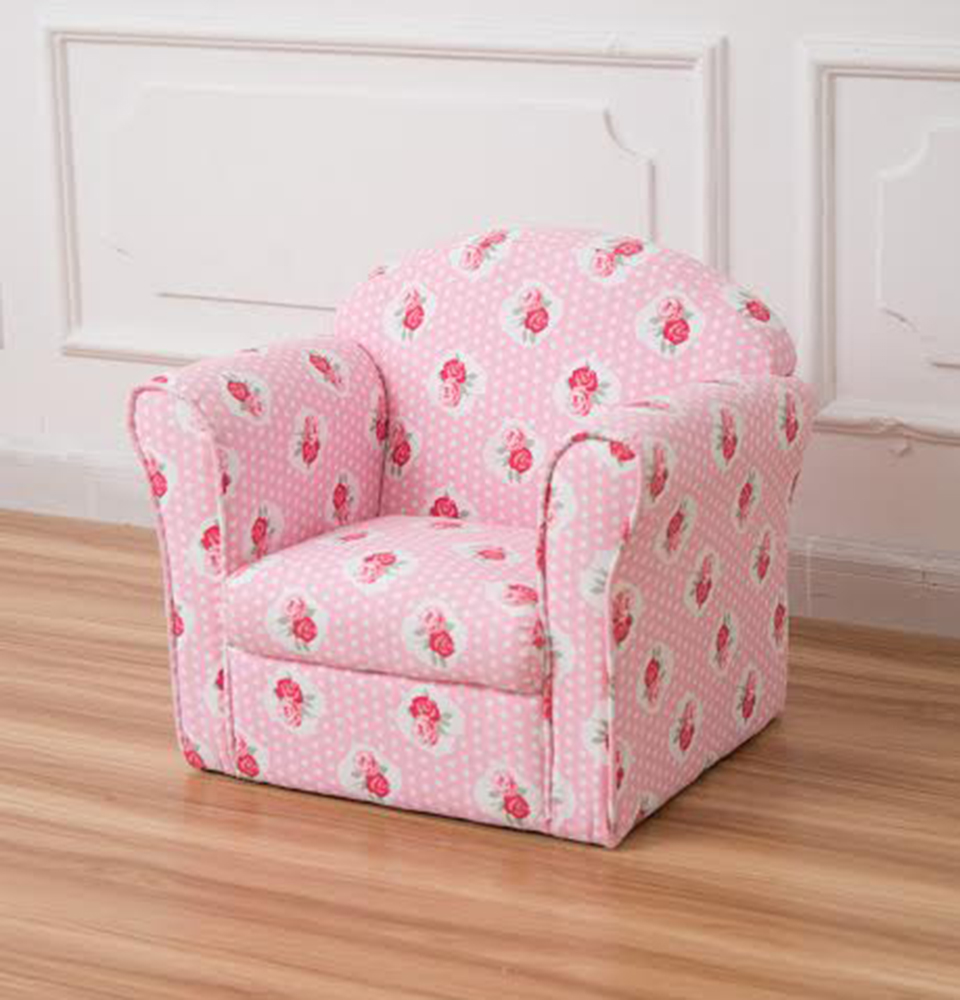chairs: (124, 228, 812, 855)
